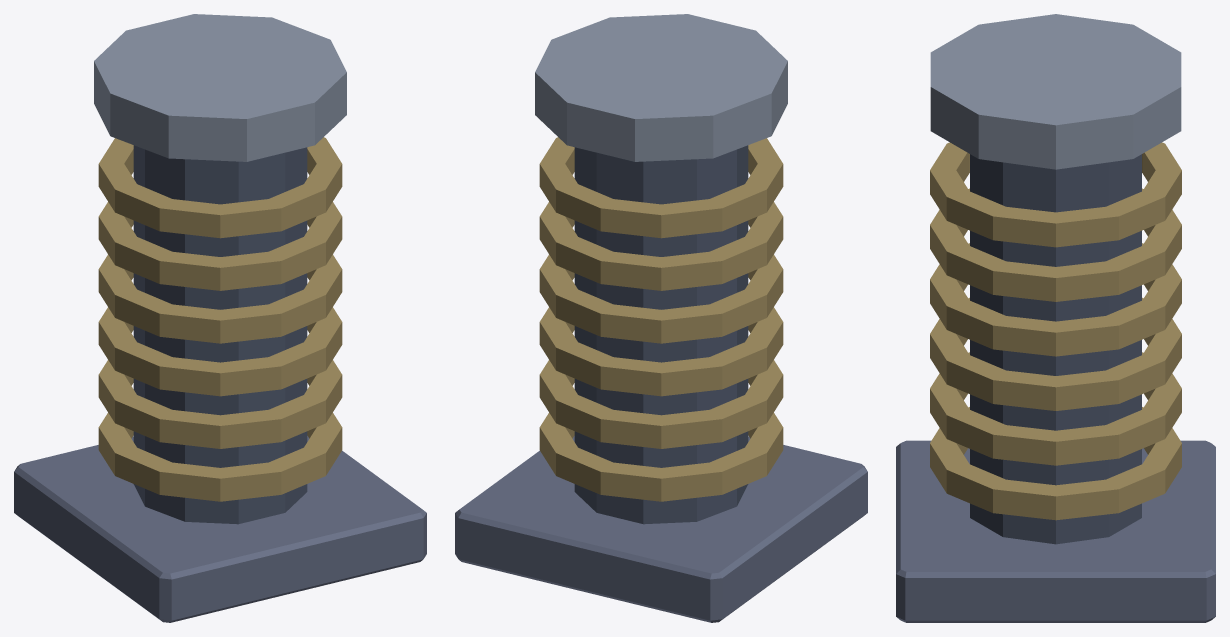
Rendered from conductor-coil.glb.
3 renders of one model, left to right at view 1: azimuth 30°, elevation 25°; view 2: azimuth 150°, elevation 25°; view 3: azimuth 270°, elevation 25°, orthographic. The views are drawn at different scales.
Parts seen in each view (by area): view 1: conductor-coil__body; view 2: conductor-coil__body; view 3: conductor-coil__body.
Boxes of the visible parts, x1,y1,x2,y2 form: conductor-coil__body: (14,14,426,622); conductor-coil__body: (455,14,867,622); conductor-coil__body: (896,14,1215,622).
Bounding box in the file's own units: 0.85 × 1.43 × 0.85.
